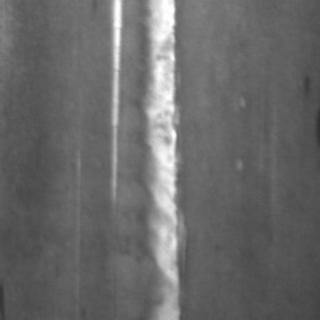scratches: (128, 0, 182, 316), (106, 0, 122, 208)
